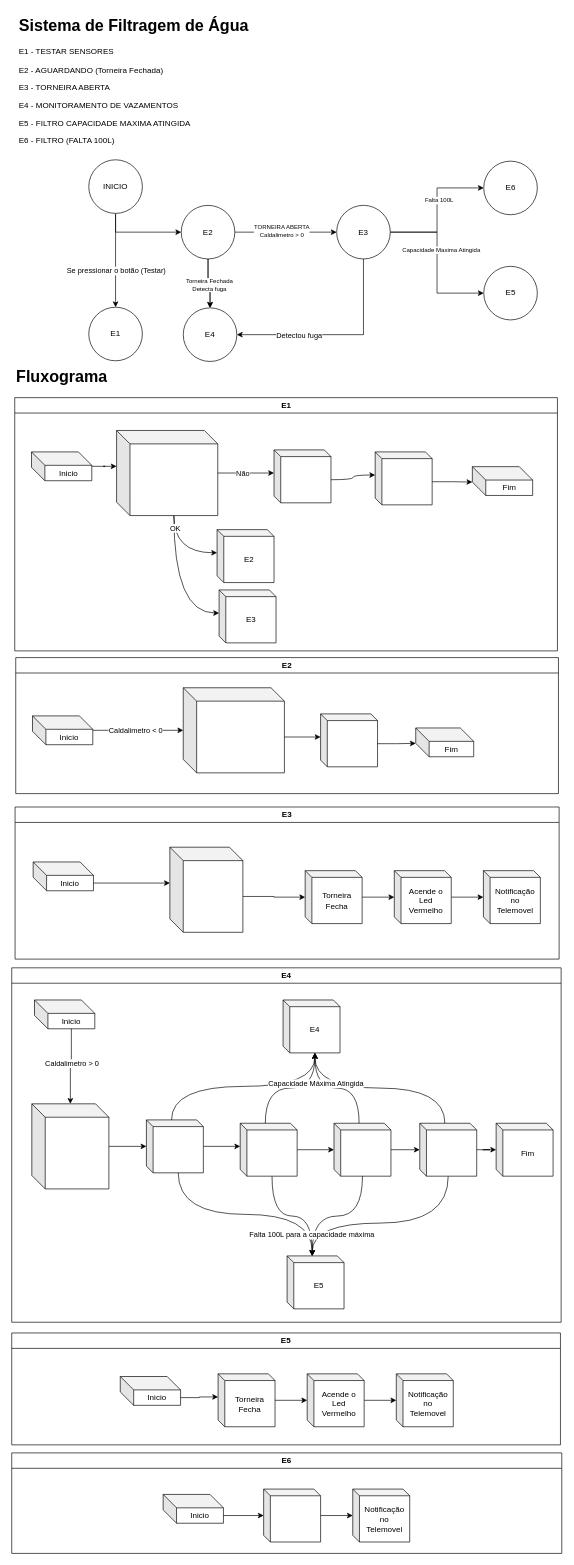
This 574x1565 diagram has some shape labels left out. The centre of each missing label's shape, as x and y in pixels:
"Acende o Led Amarelo" belongs at (x=292, y=1515).
"Enviar notififcação" belongs at (x=403, y=478).
"Filtragem de Sedimento" belongs at (x=174, y=1146).
"Filtro AB" belongs at (x=268, y=1149).
"Filtro C" belongs at (x=362, y=1149).
"Filtro R" belongs at (x=448, y=1149).
"Led Verde (OK)" belongs at (x=349, y=740).
"Led Vermelho" belongs at (x=302, y=476).
"Monitoramento de vazamentos" belongs at (x=206, y=889).
"Testar sensores" belongs at (x=167, y=473).
"Torneira Aberta (Válvula Aberta)" belongs at (x=70, y=1146).
"Valvula Emergencia Aberta" belongs at (x=233, y=730).
